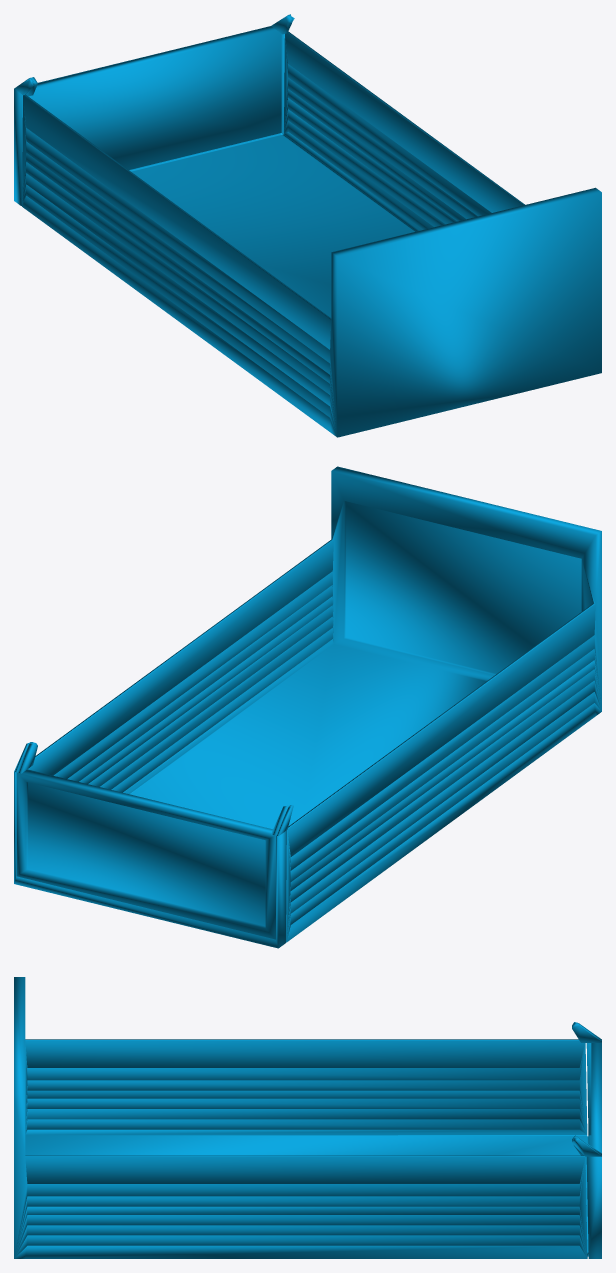
The model's file is camion-6x4-mantgs26-grue.benne.glb.
The picture shows the model from 3 angles, top to bottom: view 1: azimuth 30°, elevation 25°; view 2: azimuth 150°, elevation 25°; view 3: azimuth 270°, elevation 25°; orthographic projection. The views are drawn at different scales.
Size of the model in its own units: 2.45 by 1.6 by 5.19.
